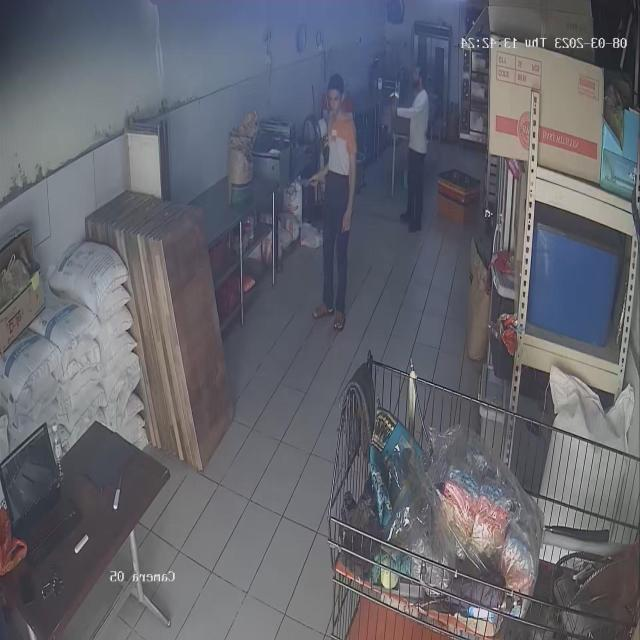Gun: (380, 90, 404, 120)
Knife: (285, 168, 317, 192)
